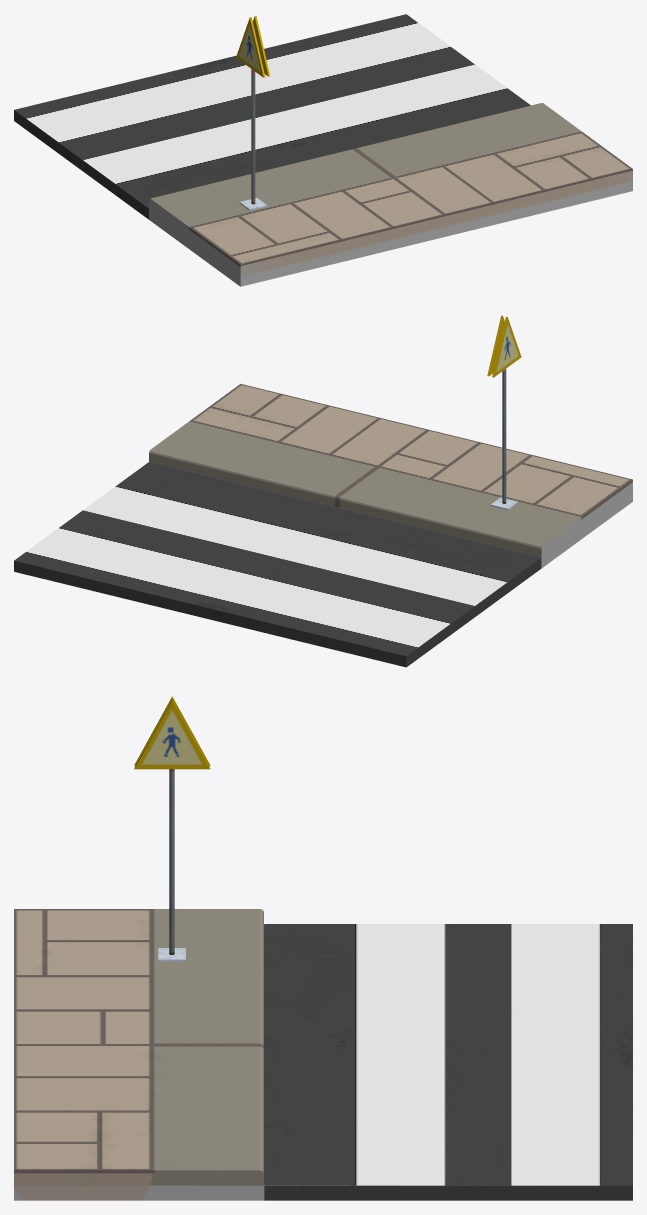
Rendered from Pavement_Default_CrossWalk.fbx.
The picture shows the model from 3 angles, top to bottom: view 1: azimuth 30°, elevation 25°; view 2: azimuth 150°, elevation 25°; view 3: azimuth 270°, elevation 25°; orthographic projection. The views are drawn at different scales.
Parts seen in each view (by area): view 1: Cube, Plane.001; view 2: Cube, Plane.001; view 3: Cube, Plane.001.
Boxes of the visible parts, x1,y1,x2,y2 form: Cube: [14, 14, 632, 286]; Plane.001: [236, 16, 269, 210]; Cube: [14, 383, 632, 667]; Plane.001: [487, 315, 521, 510]; Cube: [14, 909, 632, 1200]; Plane.001: [134, 696, 210, 961].
Bounding box in the file's own units: 100 × 51.3 × 100.
Materials: 2 (2 with a texture image).
